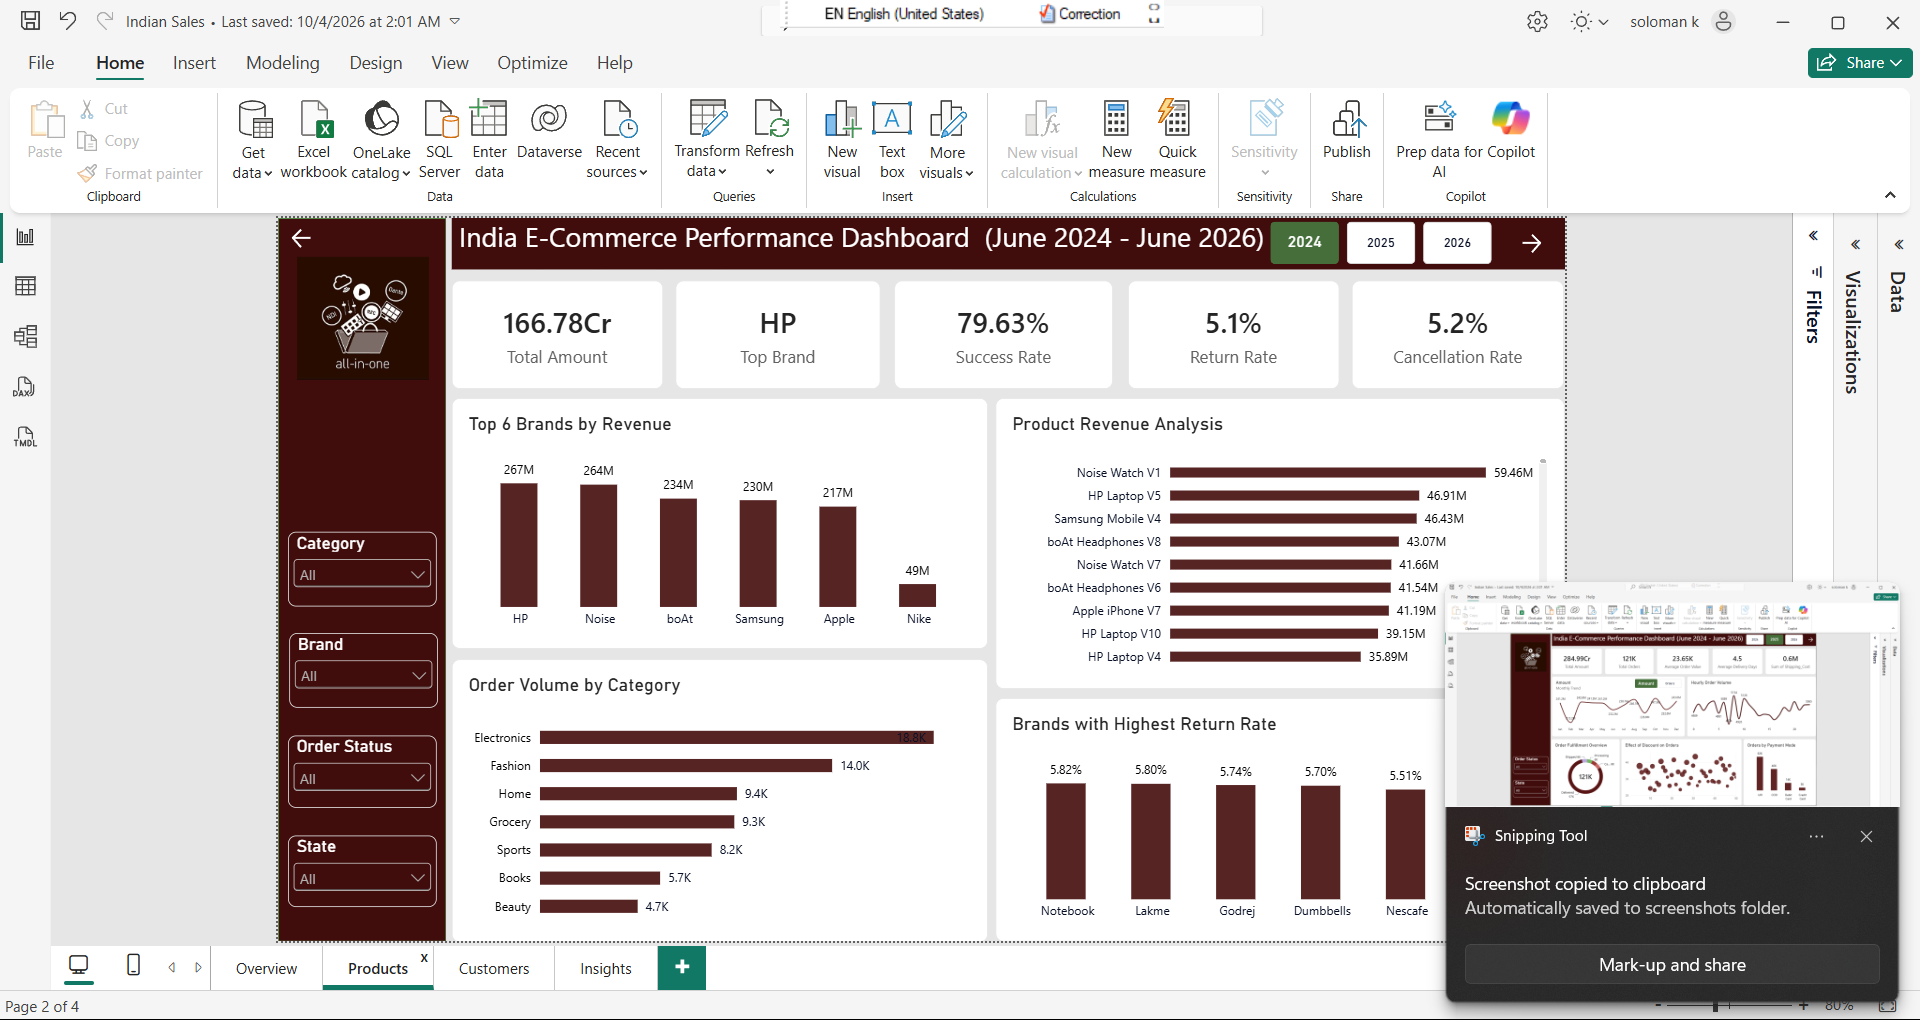

This screenshot's page, from the dashboard's own definition file:
{"tool":"powerbi","page":{"name":"Products","canvas":[1280,720],"ordinal":1},"visuals":[{"type":"textbox","box":[172.4,0,1107.9,51.4],"z":0},{"type":"shape","box":[0,0,167.5,720.2],"z":1000},{"type":"card","title":"Total Amount ","fields":{"Values":["sales.Total_Revenue"]},"box":[172.4,62.4,210.3,107.6],"z":2000},{"type":"card","title":"Total Amount ","fields":{"Values":["products.Top Brand"]},"box":[396,61.9,204.2,107.6],"z":3000},{"type":"card","title":"Total Amount ","fields":{"Values":["sales.Successs Rate"]},"box":[613.9,62.4,217.7,107.6],"z":4000},{"type":"card","title":"Total Amount ","fields":{"Values":["sales.Return Rate"]},"box":[846.2,62.4,210.3,107.6],"z":5000},{"type":"card","title":"Total Amount ","fields":{"Values":["sales.cancellation_rate"]},"box":[1068.8,62.4,211.6,107.6],"z":6000},{"type":"advancedSlicerVisual","fields":{"Values":["Calender.Year"]},"box":[988,3.7,220.1,42.8],"z":7000},{"type":"slicer","fields":{"Values":["sales.Order_Status"]},"box":[9.8,514.8,148,72.1],"z":8000},{"type":"slicer","fields":{"Values":["sales.State"]},"box":[9.8,615.1,148,70.9],"z":9000},{"type":"image","box":[17.1,39.1,134.5,122.3],"z":10000},{"type":"columnChart","title":"Top 6 Brands by Revenue","fields":{"Category":["products.Brand"],"Y":["sales.Total_Revenue"]},"box":[172.4,178.5,533.8,249.7],"z":11000},{"type":"barChart","title":"Order Volume by Category","fields":{"Category":["products.Category"],"Y":["sales.Total Orders"]},"box":[172.4,439,533.8,281.3],"z":12000},{"type":"barChart","title":"Product Revenue Analysis","fields":{"Category":["products.Product_Name"],"Y":["sales.Total_Revenue"]},"box":[714.1,178.5,566.2,289.8],"z":13000},{"type":"slicer","fields":{"Values":["products.Brand"]},"box":[11,413.3,148,74.6],"z":14000},{"type":"columnChart","title":"Brands with Highest Return Rate","fields":{"Category":["products.Brand"],"Y":["sales.Return Rate"]},"box":[714.1,478.1,566.2,242.1],"z":15000},{"type":"slicer","fields":{"Values":["products.Category"]},"box":[9.8,311.8,148,74.6],"z":16000},{"type":"actionButton","box":[0,0,46.5,40.4],"z":17000},{"type":"actionButton","box":[1225.3,4.9,44,40.4],"z":18000}]}

Visuals, with their boxes on the page's 1280x720 design canvas (x1, y1, x2, y2). These are canvas units, not pixel positions in the 1920x1020 screenshot, which may show the page scaled, cropped or inside an application window:
textbox: (x1=172, y1=0, x2=1280, y2=51)
shape: (x1=0, y1=0, x2=168, y2=720)
"Total Amount " card: (x1=172, y1=62, x2=383, y2=170)
"Total Amount " card: (x1=396, y1=62, x2=600, y2=170)
"Total Amount " card: (x1=614, y1=62, x2=832, y2=170)
"Total Amount " card: (x1=846, y1=62, x2=1056, y2=170)
"Total Amount " card: (x1=1069, y1=62, x2=1280, y2=170)
advancedSlicerVisual - Calender.Year: (x1=988, y1=4, x2=1208, y2=46)
slicer - sales.Order_Status: (x1=10, y1=515, x2=158, y2=587)
slicer - sales.State: (x1=10, y1=615, x2=158, y2=686)
image: (x1=17, y1=39, x2=152, y2=161)
"Top 6 Brands by Revenue" columnChart: (x1=172, y1=178, x2=706, y2=428)
"Order Volume by Category" barChart: (x1=172, y1=439, x2=706, y2=720)
"Product Revenue Analysis" barChart: (x1=714, y1=178, x2=1280, y2=468)
slicer - products.Brand: (x1=11, y1=413, x2=159, y2=488)
"Brands with Highest Return Rate" columnChart: (x1=714, y1=478, x2=1280, y2=720)
slicer - products.Category: (x1=10, y1=312, x2=158, y2=386)
actionButton: (x1=0, y1=0, x2=46, y2=40)
actionButton: (x1=1225, y1=5, x2=1269, y2=45)
